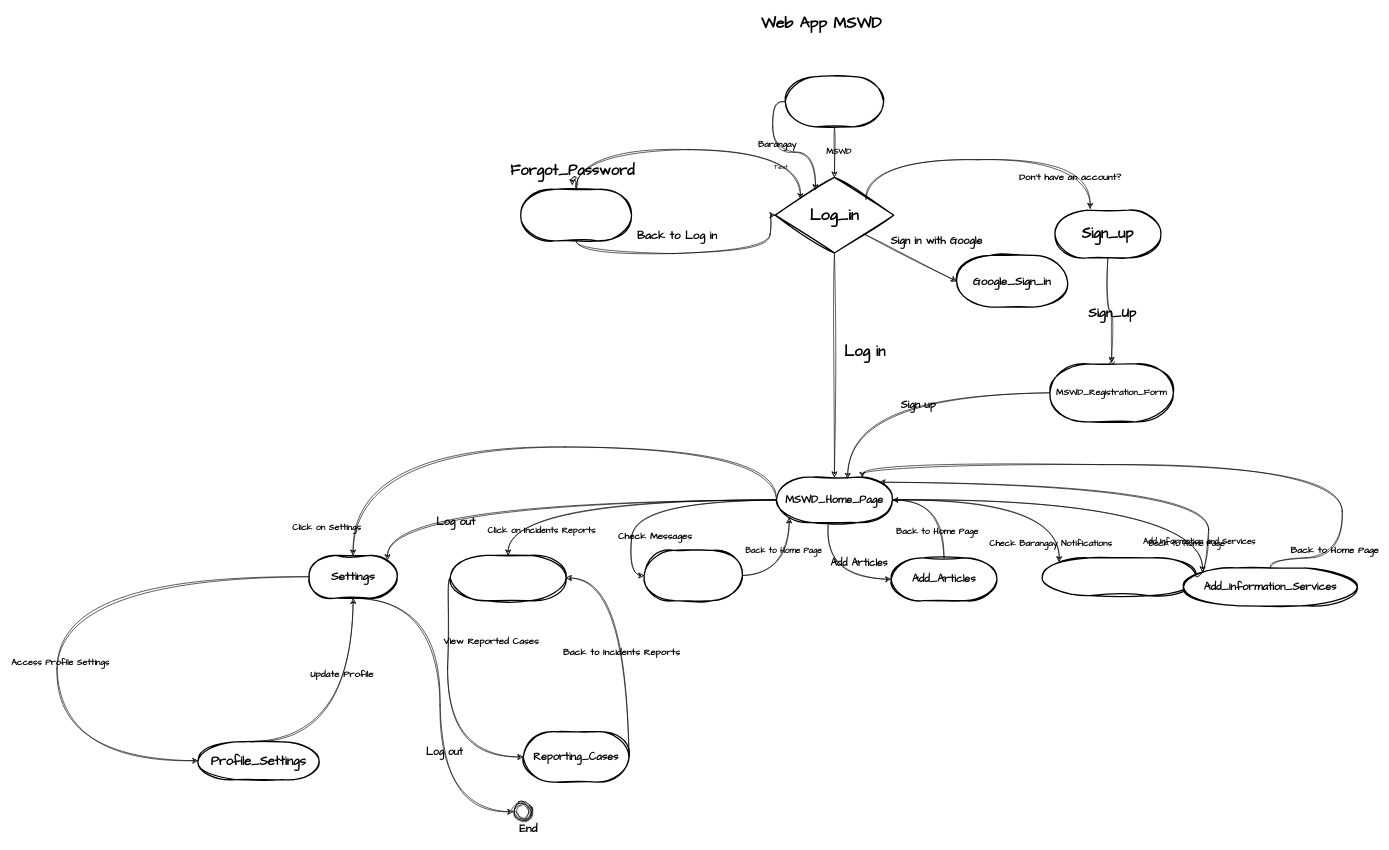
This 1389x850 diagram has some shape labels left out. The centre of each missing label's shape, as x and y in pixels:
"Barangay_Notificastion" goes at [1118,576].
"Choose your Role" goes at [834,101].
"Forgot Password" goes at [576,214].
"Incidents_Repoerts" goes at [507,577].
"Messages" goes at [693,575].
